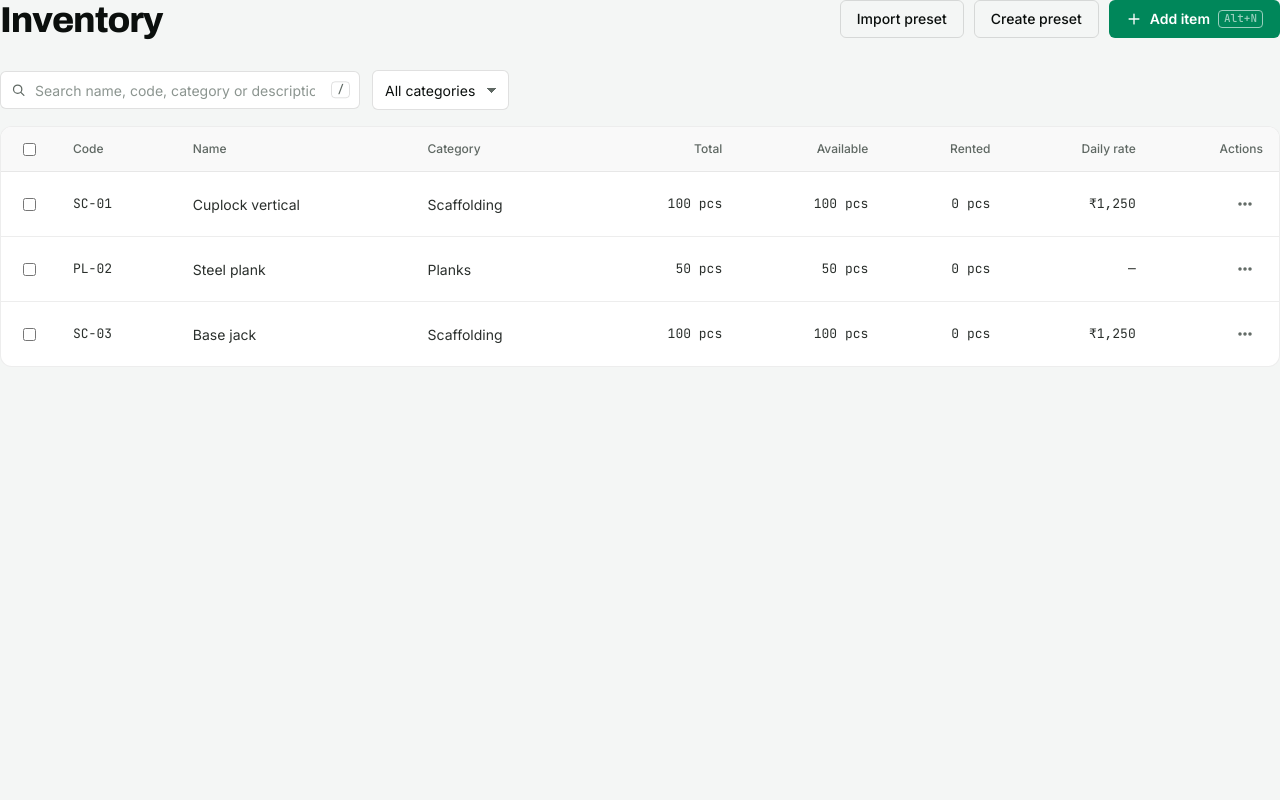
Test case: InventoryPage › opens the add item modal from the button and Alt+N
Expected: the table is shown, [1,127,1279,366]
Click the button "Add item Alt+N".
click(1194, 19)  # box [1109,0,1279,38]
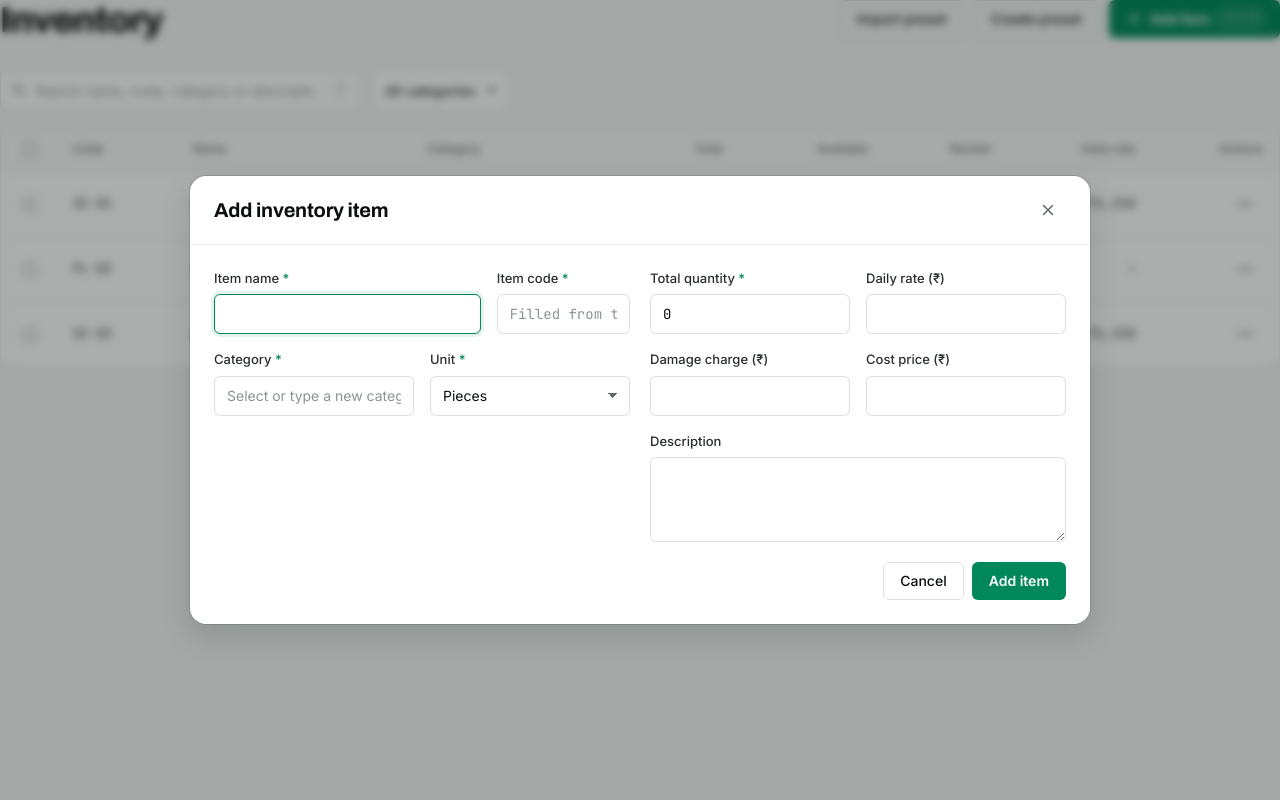
Result: the dialog shows "Add inventory item" at [214,199,388,221]
Click the button "Cancel".
click(923, 581)  # box [883,562,964,600]
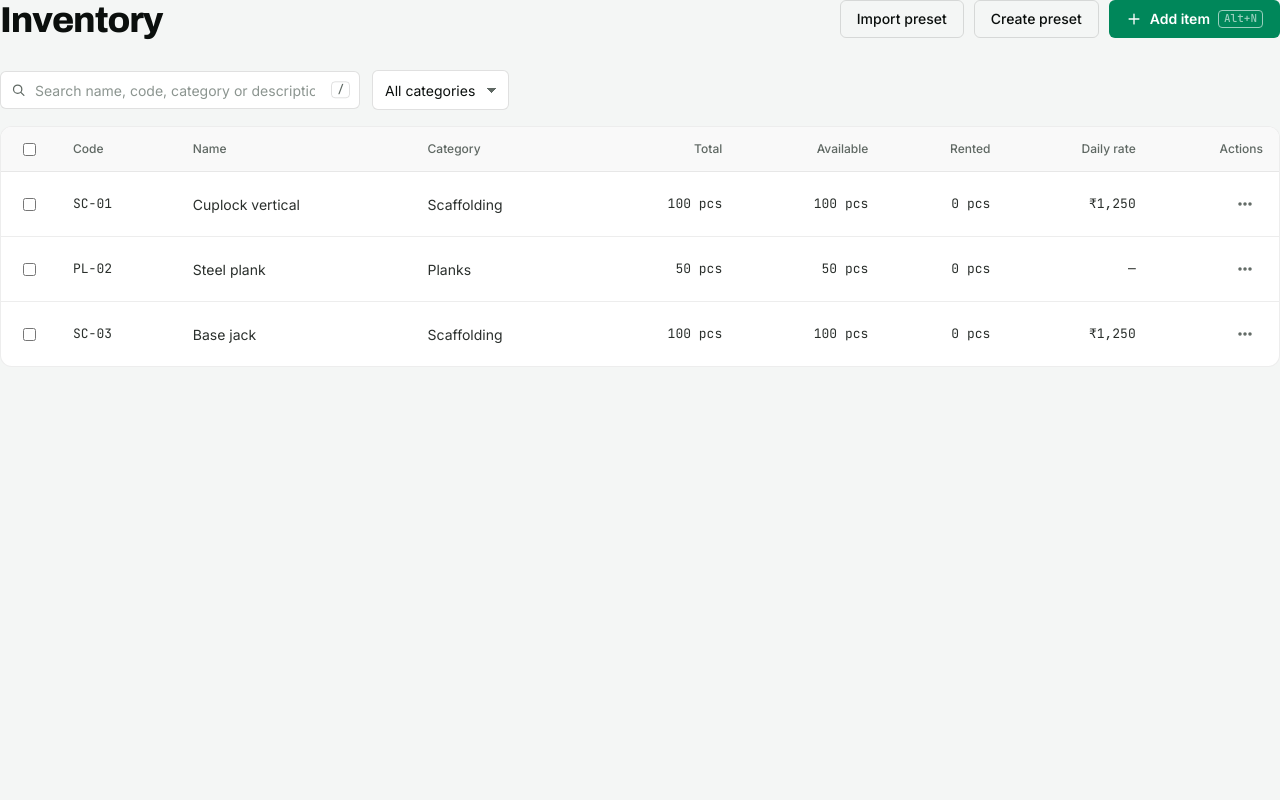
Result: the dialog is gone
Press KeyN
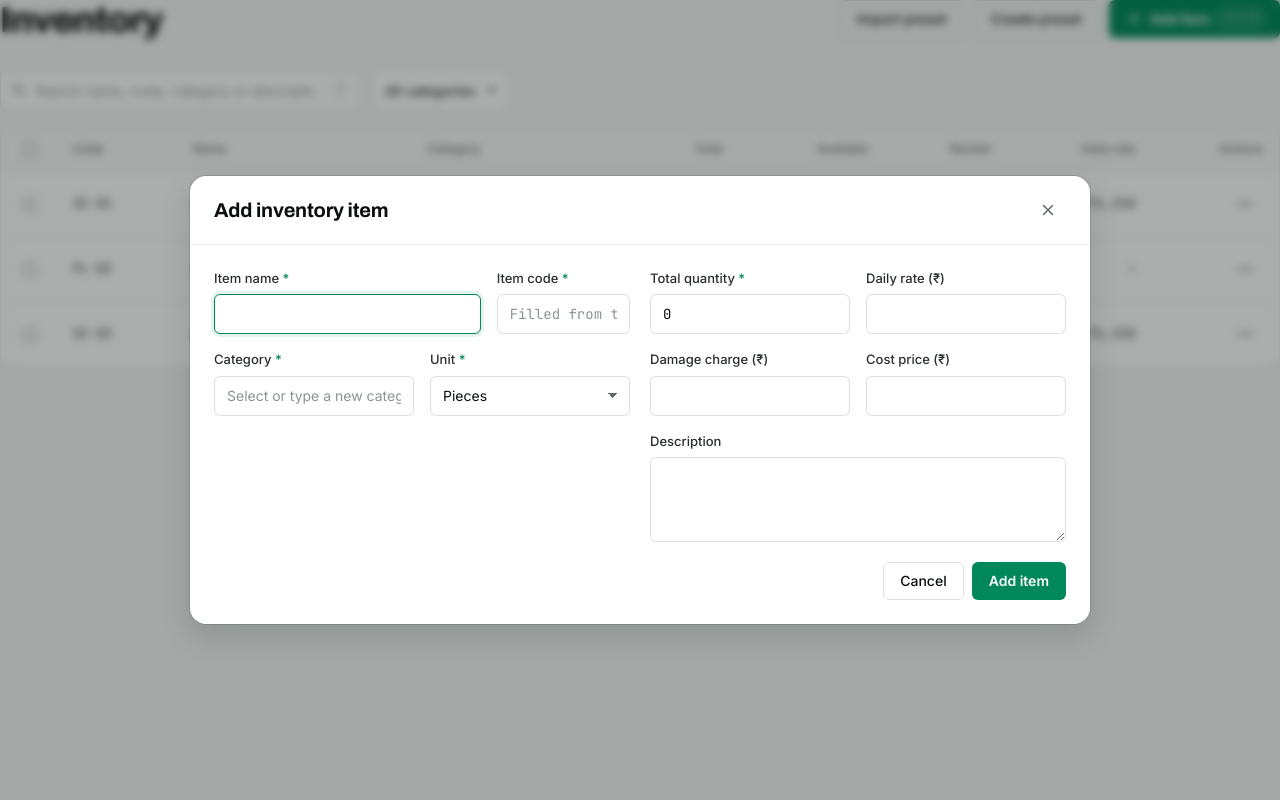
Result: the dialog is shown at [190,176,1090,624]
